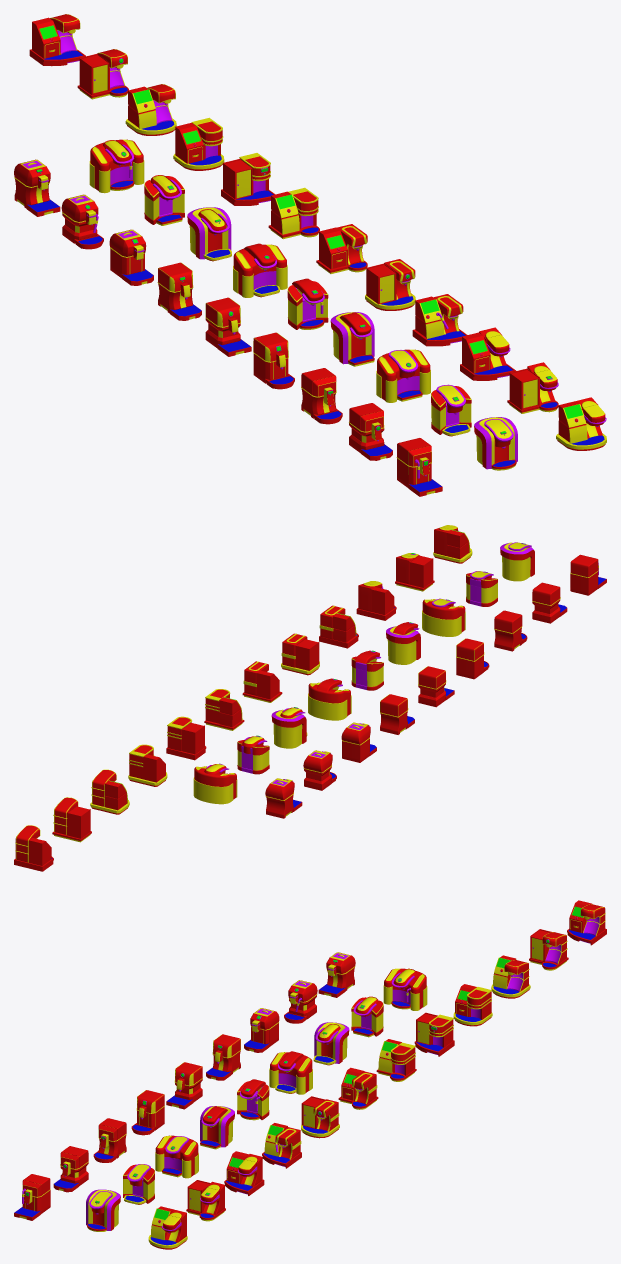
File: coffee_machines_grp.fbx
3 renders of one model, top to bottom at view 1: azimuth 30°, elevation 25°; view 2: azimuth 150°, elevation 25°; view 3: azimuth 330°, elevation 25°, orthographic. The views are drawn at different scales.
Parts seen in each view (by area): view 1: coffee_machine_15, coffee_machine_18, coffee_machine_12, coffee_machine_27, coffee_machine_26, coffee_machine_22, coffee_machine_19, coffee_machine_21, coffee_machine_30, coffee_machine_28, coffee_machine_23, coffee_machine_25 (+18 smaller); view 2: coffee_machine_15, coffee_machine_18, coffee_machine_12, coffee_machine_26, coffee_machine_29, coffee_machine_30, coffee_machine_23, coffee_machine_28, coffee_machine_22, coffee_machine_13, coffee_machine_16, coffee_machine_27 (+18 smaller); view 3: coffee_machine_15, coffee_machine_18, coffee_machine_12, coffee_machine_26, coffee_machine_23, coffee_machine_22, coffee_machine_21, coffee_machine_19, coffee_machine_27, coffee_machine_30, coffee_machine_28, coffee_machine_16 (+18 smaller).
Part boxes in pixels (x1=…): coffee_machine_15: x1=233, y1=243, x2=287, y2=297; coffee_machine_18: x1=89, y1=139, x2=144, y2=193; coffee_machine_12: x1=376, y1=349, x2=430, y2=402; coffee_machine_27: x1=173, y1=117, x2=224, y2=170; coffee_machine_26: x1=221, y1=153, x2=274, y2=205; coffee_machine_22: x1=412, y1=294, x2=467, y2=346; coffee_machine_19: x1=556, y1=397, x2=606, y2=450; coffee_machine_21: x1=460, y1=327, x2=515, y2=380; coffee_machine_30: x1=29, y1=14, x2=85, y2=66; coffee_machine_28: x1=125, y1=84, x2=176, y2=135; coffee_machine_23: x1=365, y1=259, x2=415, y2=310; coffee_machine_25: x1=268, y1=187, x2=319, y2=239; coffee_machine_15: x1=308, y1=678, x2=351, y2=720; coffee_machine_18: x1=193, y1=763, x2=237, y2=804; coffee_machine_12: x1=422, y1=598, x2=465, y2=636; coffee_machine_26: x1=166, y1=716, x2=206, y2=760; coffee_machine_29: x1=52, y1=797, x2=91, y2=842; coffee_machine_30: x1=14, y1=825, x2=53, y2=871; coffee_machine_23: x1=281, y1=633, x2=319, y2=675; coffee_machine_28: x1=90, y1=769, x2=129, y2=814; coffee_machine_22: x1=319, y1=605, x2=358, y2=648; coffee_machine_13: x1=386, y1=622, x2=420, y2=664; coffee_machine_16: x1=271, y1=707, x2=307, y2=748; coffee_machine_27: x1=128, y1=744, x2=167, y2=786; coffee_machine_15: x1=269, y1=1051, x2=312, y2=1094; coffee_machine_18: x1=383, y1=968, x2=427, y2=1010; coffee_machine_12: x1=155, y1=1135, x2=198, y2=1178; coffee_machine_26: x1=414, y1=1012, x2=454, y2=1056; coffee_machine_23: x1=301, y1=1096, x2=339, y2=1138; coffee_machine_22: x1=262, y1=1123, x2=301, y2=1168; coffee_machine_21: x1=224, y1=1151, x2=264, y2=1195; coffee_machine_19: x1=148, y1=1206, x2=187, y2=1249; coffee_machine_27: x1=453, y1=984, x2=492, y2=1026; coffee_machine_30: x1=567, y1=900, x2=606, y2=945; coffee_machine_28: x1=491, y1=955, x2=530, y2=998; coffee_machine_16: x1=313, y1=1022, x2=349, y2=1065.
Size of the model in its own units: 237 by 46.37 by 1149.
